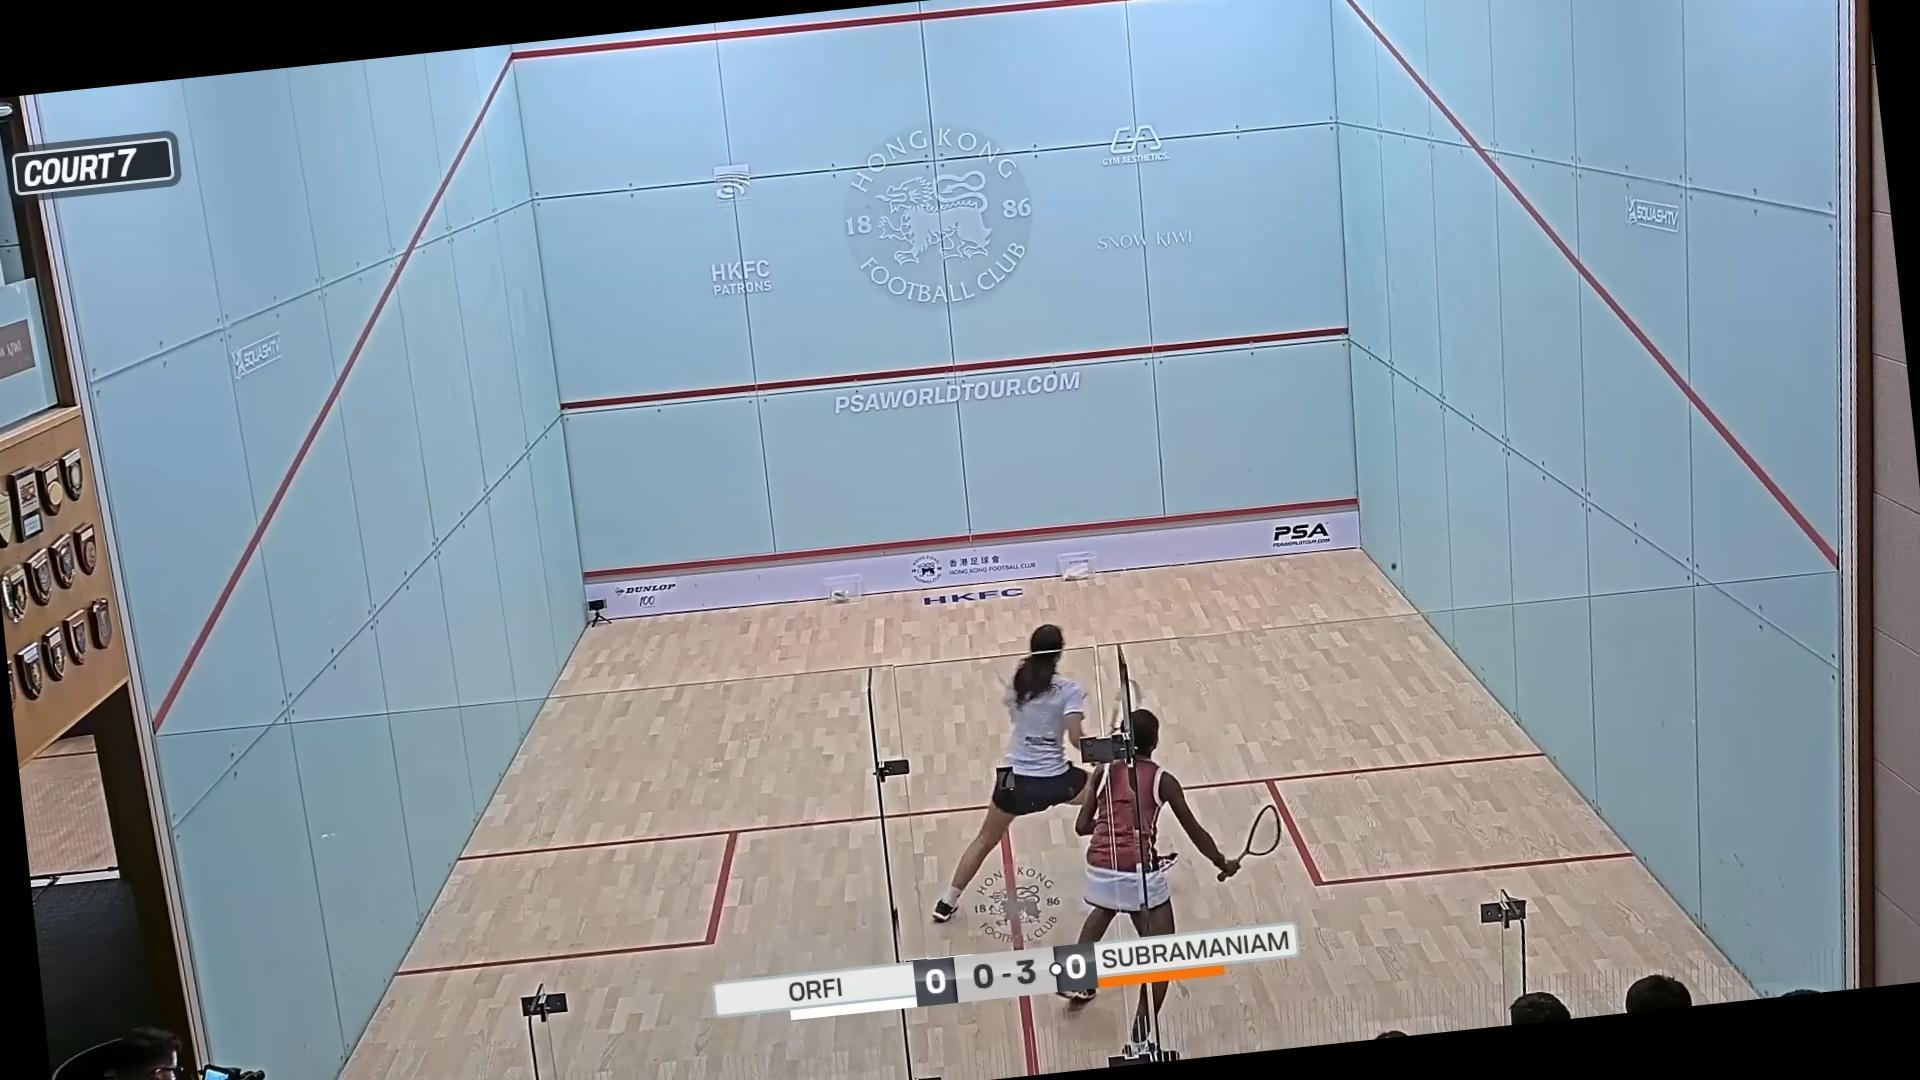Squash-Ball: (1379, 553, 1404, 583)
